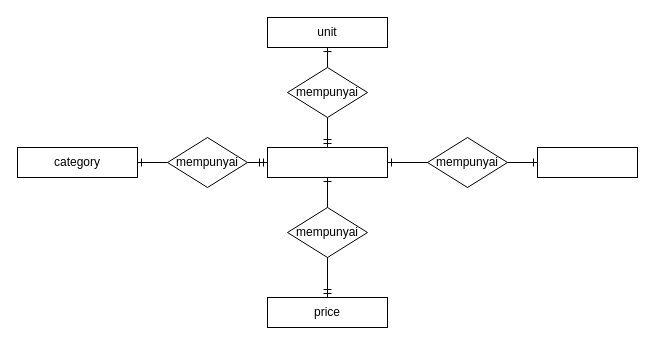
This 655x345 diagram has some shape labels left out. The shapes that lost their labels are listed below. From the top down, each one's centre as x and y in pixels, then its label:
At [327,162]: "product".
At [587,162]: "photo".
